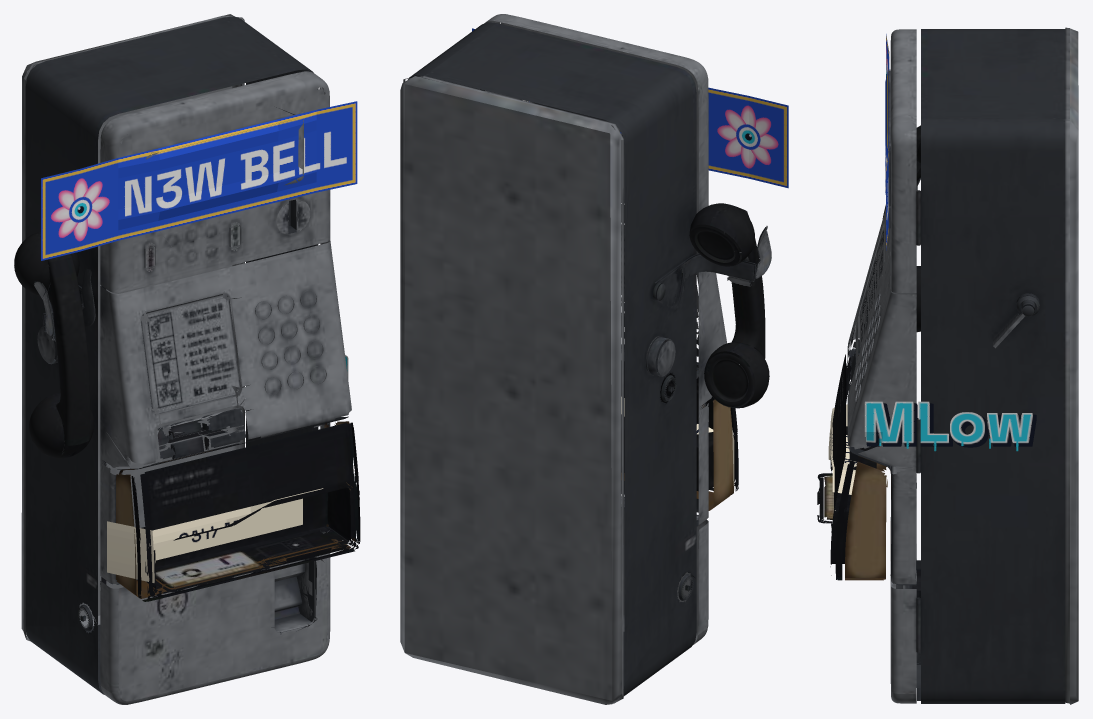
The model's file is nyb_payphone.glb.
The picture shows the model from 3 angles, left to right: view 1: azimuth 30°, elevation 25°; view 2: azimuth 150°, elevation 25°; view 3: azimuth 270°, elevation 25°; orthographic projection.
Visible parts, largest first — view 1: korean_public_payphone_01, stk_lbl_ce1e61e44f.png, stk_lbl_9ede7786b9.png; view 2: korean_public_payphone_01, stk_lbl_ce1e61e44f.png; view 3: korean_public_payphone_01, stk_tag_mlow_cyan.png, stk_lbl_ce1e61e44f.png, stk_lbl_9ede7786b9.png.
Part boxes in pixels (bbox=[...]): korean_public_payphone_01: bbox=[14, 14, 360, 704]; stk_lbl_ce1e61e44f.png: bbox=[41, 101, 357, 260]; stk_lbl_9ede7786b9.png: bbox=[107, 488, 323, 582]; korean_public_payphone_01: bbox=[400, 14, 771, 704]; stk_lbl_ce1e61e44f.png: bbox=[472, 28, 788, 188]; korean_public_payphone_01: bbox=[817, 27, 1078, 704]; stk_tag_mlow_cyan.png: bbox=[864, 401, 1036, 451]; stk_lbl_ce1e61e44f.png: bbox=[885, 34, 889, 250]; stk_lbl_9ede7786b9.png: bbox=[828, 404, 857, 494].
Bounding box in the file's own units: 0.42 × 0.7378 × 0.3002.
Materials: 4 (4 with a texture image).
